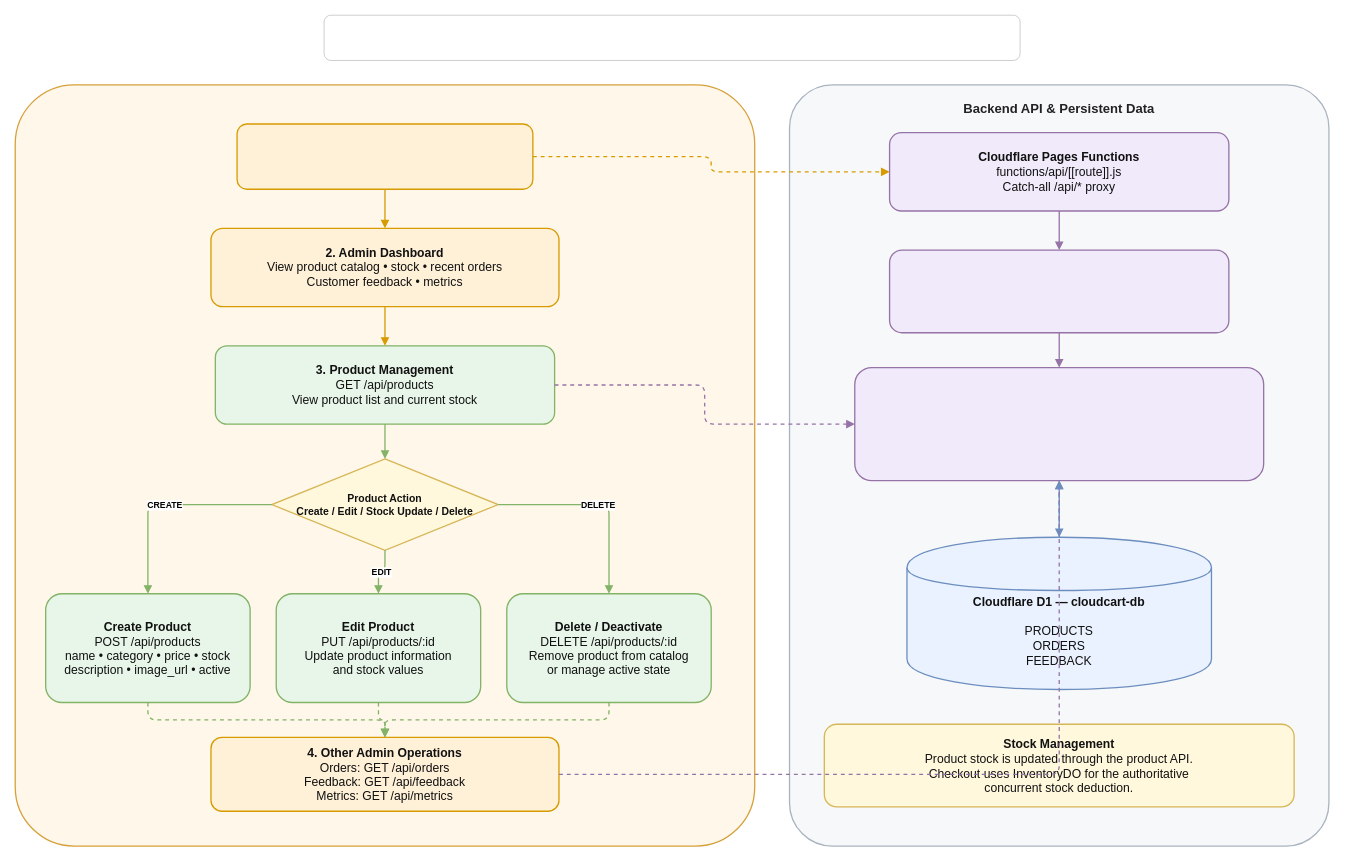
Some shapes in this 1345 by 862 pixel diagram are drawn without their labels. The shapes that lost their labels are listed below. From the top down, each one's box as (x1, y1, x2, y2) in pixels, then its label:
(323, 14, 1020, 60): CloudCart — Admin Flow & Product Management
(236, 123, 533, 189): 1. Open Admin Portal public/admin/index.html public/admin/js/admin.js
(889, 249, 1229, 333): Cloudflare Worker — cloudcart-worker worker/index.js Route + business logic
(854, 367, 1264, 481): Admin API Routes /api/products /api/orders /api/feedback /api/metrics
(14, 84, 755, 846): Admin Portal & Management Flow
